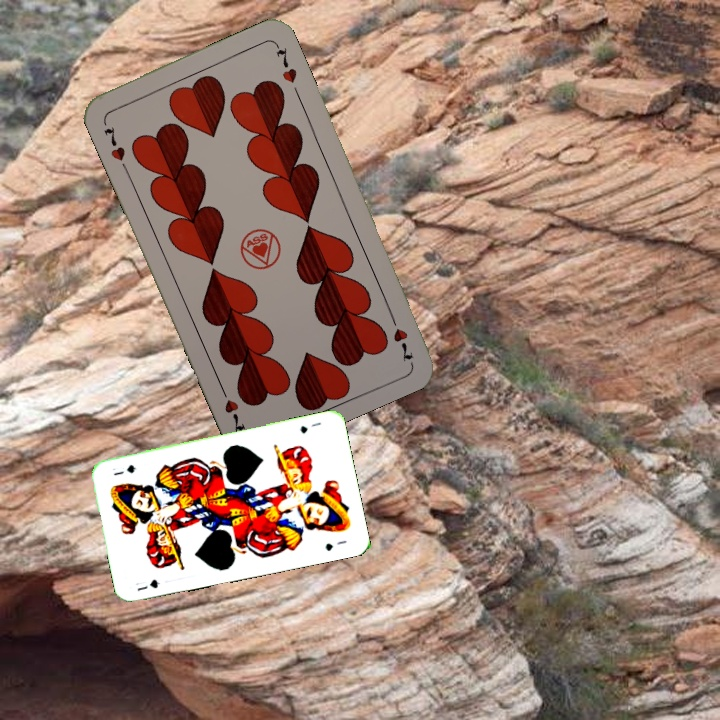GU: (131, 575, 162, 594), (296, 418, 323, 436)
H7: (385, 308, 416, 364), (99, 122, 128, 164)
